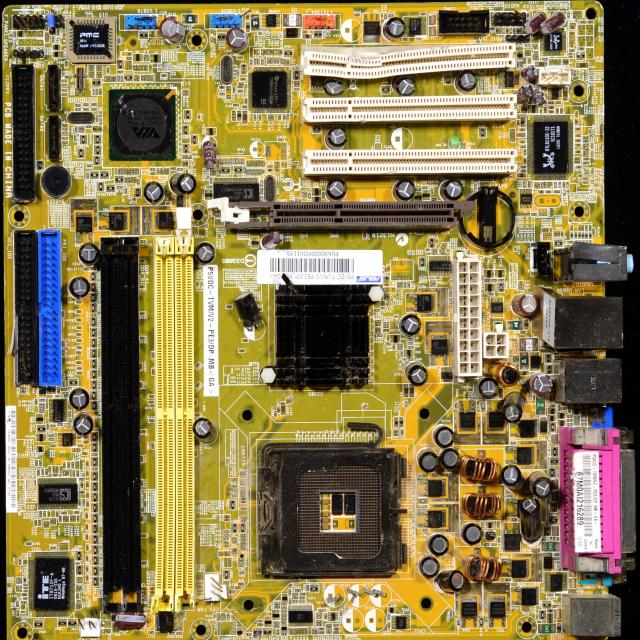Capacitor Jumper: (234, 292, 262, 330), (520, 494, 542, 542), (513, 292, 541, 318), (498, 462, 523, 491), (200, 141, 222, 173), (502, 392, 525, 422), (192, 417, 218, 442), (72, 411, 96, 438), (114, 612, 146, 632), (541, 15, 568, 38), (144, 178, 166, 206), (406, 364, 430, 389), (160, 19, 184, 43), (194, 242, 219, 265), (328, 126, 350, 152), (476, 376, 500, 399), (69, 385, 91, 409), (529, 475, 551, 499), (458, 70, 480, 94), (322, 75, 346, 97), (399, 314, 422, 336), (531, 372, 554, 394), (395, 77, 417, 100), (326, 179, 349, 201), (174, 172, 195, 196), (80, 242, 100, 266), (444, 176, 463, 201), (226, 28, 248, 49), (385, 17, 406, 39), (69, 276, 89, 298), (396, 176, 413, 201), (529, 12, 544, 40), (523, 66, 539, 81), (520, 84, 533, 100), (532, 90, 545, 106), (408, 382, 415, 398), (402, 383, 409, 398), (280, 401, 286, 416), (510, 128, 516, 142), (74, 349, 84, 356), (194, 380, 201, 390), (74, 300, 84, 306), (84, 480, 90, 490), (84, 499, 90, 509), (76, 442, 84, 449), (138, 362, 144, 371), (74, 360, 84, 365), (34, 458, 39, 468), (84, 459, 89, 469), (58, 514, 63, 524), (69, 514, 74, 524), (42, 520, 47, 530), (76, 345, 84, 351), (76, 365, 84, 371), (82, 439, 90, 445), (81, 451, 89, 457), (84, 512, 90, 520), (140, 515, 146, 523), (61, 82, 69, 88), (61, 87, 69, 93), (72, 469, 77, 478), (140, 533, 149, 538), (50, 517, 54, 528), (139, 310, 146, 316), (66, 462, 72, 469), (575, 126, 582, 132), (75, 325, 83, 330), (150, 351, 155, 359), (195, 361, 200, 369), (140, 454, 144, 464), (52, 464, 56, 474), (58, 466, 63, 474), (62, 514, 66, 524), (53, 517, 57, 527), (34, 519, 38, 529), (84, 554, 89, 562), (140, 560, 148, 565), (85, 574, 90, 582), (548, 109, 556, 114), (574, 138, 582, 143), (75, 332, 84, 336), (151, 368, 155, 377), (85, 469, 89, 478), (73, 514, 77, 523), (38, 519, 42, 528), (85, 564, 89, 573), (556, 106, 560, 115), (560, 106, 564, 115), (182, 159, 186, 168), (509, 27, 514, 34), (76, 338, 83, 343), (76, 370, 83, 375), (392, 428, 399, 433), (75, 469, 80, 476), (62, 470, 67, 477), (61, 92, 68, 97), (545, 189, 552, 194), (74, 318, 82, 322), (286, 397, 290, 405), (194, 398, 198, 406), (148, 418, 156, 422), (151, 441, 155, 449), (39, 458, 43, 466), (62, 461, 66, 469), (56, 466, 60, 474), (45, 468, 49, 476), (36, 468, 40, 476), (140, 479, 144, 487), (256, 48, 260, 56), (85, 533, 89, 541), (84, 544, 88, 552), (548, 106, 556, 110), (516, 119, 520, 127), (518, 127, 526, 131), (574, 143, 582, 147), (519, 165, 527, 169), (140, 429, 146, 434), (77, 514, 80, 524), (47, 520, 50, 530), (140, 586, 146, 591), (520, 144, 526, 149), (533, 182, 538, 188), (139, 336, 146, 340), (392, 343, 396, 350), (148, 394, 155, 398), (148, 400, 155, 404), (569, 38, 576, 42), (274, 410, 278, 417), (392, 432, 399, 436), (48, 466, 52, 473), (223, 514, 230, 518), (224, 518, 231, 522), (552, 58, 556, 65), (523, 157, 527, 164), (139, 284, 146, 288), (75, 310, 84, 313), (85, 492, 88, 501), (568, 34, 574, 38), (140, 381, 143, 389), (42, 468, 45, 476), (66, 515, 69, 523), (85, 523, 88, 531), (519, 169, 527, 172), (502, 27, 505, 34), (71, 461, 74, 468), (43, 511, 46, 518), (61, 79, 68, 82), (575, 118, 578, 125), (40, 510, 42, 520), (556, 57, 558, 65), (324, 613, 326, 621), (274, 49, 276, 56), (89, 501, 89, 502)
Connector: (567, 428, 640, 571), (548, 296, 625, 348), (567, 357, 632, 410), (566, 247, 636, 289), (571, 595, 632, 640)
IC: (272, 282, 374, 393), (105, 84, 180, 167), (26, 552, 75, 617), (529, 116, 572, 179), (67, 16, 117, 63), (248, 64, 289, 111), (36, 477, 80, 512), (211, 176, 261, 204), (36, 478, 78, 509), (541, 28, 567, 56), (288, 606, 314, 626), (404, 16, 428, 37), (48, 398, 68, 422), (428, 257, 452, 277), (260, 12, 282, 28), (496, 73, 521, 87), (519, 188, 534, 210), (393, 615, 410, 630)
Resistor Jumper: (19, 385, 24, 396), (252, 57, 258, 65), (73, 107, 82, 112), (573, 230, 578, 239), (569, 231, 574, 240), (577, 231, 582, 240), (88, 67, 95, 73), (238, 80, 245, 86), (23, 386, 27, 396), (240, 506, 248, 511), (143, 52, 147, 62), (266, 56, 270, 66), (279, 58, 284, 66), (95, 71, 103, 76), (82, 102, 90, 107), (90, 106, 98, 111), (78, 125, 86, 130), (362, 404, 368, 410), (288, 587, 292, 596), (260, 58, 264, 67), (89, 74, 95, 80), (117, 74, 121, 83), (73, 103, 82, 107), (585, 232, 589, 241), (231, 493, 238, 498), (240, 536, 247, 541), (318, 608, 325, 613), (281, 620, 288, 625), (86, 124, 93, 129), (78, 128, 85, 133), (460, 141, 467, 146), (267, 47, 271, 55), (231, 551, 239, 555), (238, 571, 246, 575), (270, 56, 274, 64), (272, 56, 276, 64), (257, 57, 261, 65), (280, 609, 288, 613), (249, 58, 253, 66), (280, 616, 288, 620), (132, 64, 136, 72), (136, 64, 140, 72), (142, 64, 146, 72), (106, 66, 110, 74), (140, 74, 144, 82), (110, 74, 114, 82), (114, 74, 118, 82), (150, 74, 154, 82), (182, 88, 186, 96), (90, 102, 98, 106), (82, 106, 90, 110), (123, 167, 127, 175), (523, 180, 527, 188), (540, 182, 544, 190), (124, 187, 128, 195), (581, 231, 585, 239), (542, 57, 548, 62), (292, 599, 298, 604), (88, 64, 94, 69), (117, 185, 123, 190), (532, 44, 539, 48), (231, 484, 238, 488), (240, 493, 247, 497), (276, 49, 280, 56), (240, 516, 247, 520), (260, 49, 264, 56), (240, 519, 247, 523), (223, 529, 230, 533), (240, 533, 247, 537), (231, 536, 238, 540), (299, 596, 306, 600), (276, 57, 280, 64), (316, 619, 323, 623), (274, 624, 281, 628), (311, 628, 315, 635), (520, 61, 524, 68), (96, 68, 103, 72), (88, 72, 95, 76), (96, 75, 103, 79), (120, 75, 124, 82), (566, 11, 570, 18), (460, 146, 467, 150), (583, 150, 590, 154), (117, 168, 121, 175), (136, 168, 140, 175), (127, 177, 131, 184), (538, 190, 545, 194), (569, 22, 576, 26), (147, 53, 150, 62), (277, 628, 280, 637), (75, 125, 78, 134), (240, 482, 246, 486), (239, 490, 247, 493), (223, 536, 229, 540), (231, 540, 237, 544), (316, 615, 322, 619), (139, 64, 142, 72), (145, 64, 148, 72), (144, 74, 147, 82), (186, 88, 189, 96), (583, 146, 589, 150), (252, 159, 255, 167), (133, 168, 137, 174), (250, 168, 253, 176), (252, 168, 255, 176), (589, 232, 592, 240), (223, 533, 230, 536), (484, 543, 491, 546), (238, 558, 245, 561), (238, 561, 245, 564), (238, 583, 245, 586), (316, 623, 323, 626), (147, 74, 150, 81), (262, 160, 265, 167), (243, 166, 246, 173), (259, 168, 262, 175), (130, 168, 133, 175), (247, 169, 250, 176), (125, 177, 128, 184), (137, 178, 140, 185), (274, 620, 279, 624), (240, 471, 246, 474), (240, 541, 246, 544), (491, 543, 497, 546), (241, 548, 247, 551), (280, 613, 286, 616), (326, 624, 332, 627), (333, 624, 339, 627), (96, 65, 102, 68), (583, 136, 589, 139), (256, 168, 258, 176), (584, 154, 589, 157), (293, 628, 295, 635), (240, 544, 246, 546), (582, 144, 588, 146)
Transistor: (92, 210, 129, 233), (419, 476, 450, 502), (419, 509, 452, 533), (404, 286, 437, 310), (149, 209, 180, 234), (155, 609, 184, 635), (454, 398, 476, 430), (486, 595, 506, 629), (75, 210, 94, 243), (430, 337, 452, 365), (509, 585, 541, 604), (509, 446, 542, 464), (461, 596, 478, 629), (488, 399, 505, 428), (500, 532, 522, 550), (515, 420, 537, 437), (507, 560, 528, 577)
